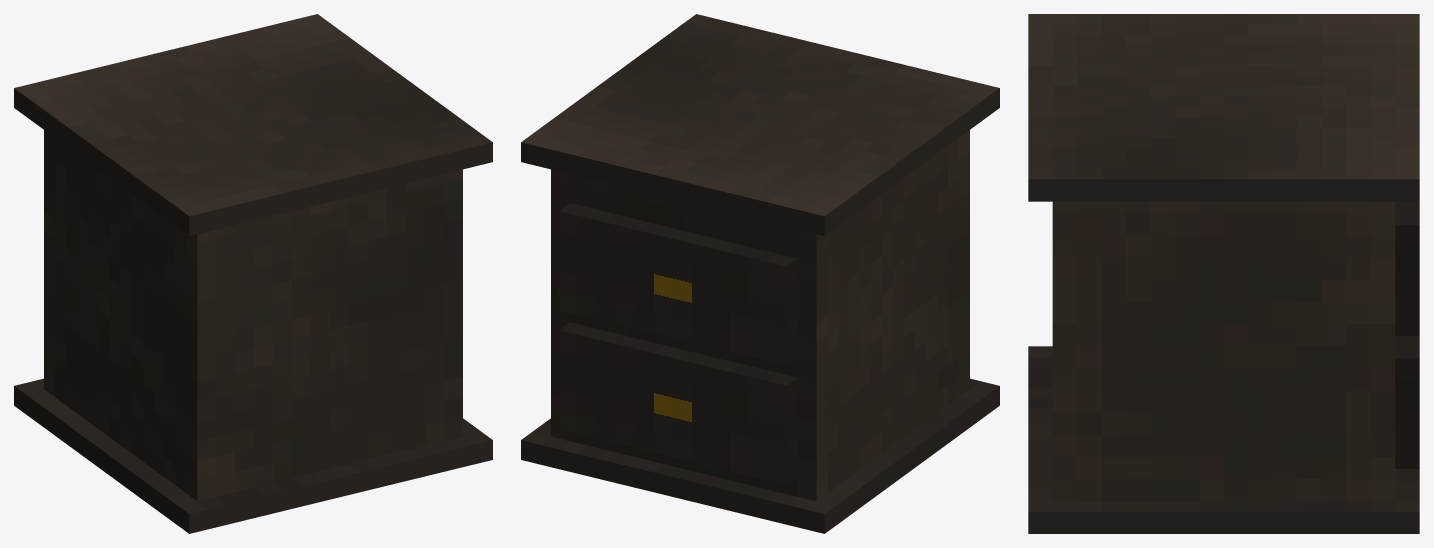
Rendered from bedside.obj.
The picture shows the model from 3 angles, left to right: view 1: azimuth 30°, elevation 25°; view 2: azimuth 150°, elevation 25°; view 3: azimuth 270°, elevation 25°; orthographic projection. The views are drawn at different scales.
Parts seen in each view (by area): view 1: cube; view 2: cube; view 3: cube.
Boxes of the visible parts, x1,y1,x2,y2 form: cube: [14, 14, 492, 533]; cube: [521, 14, 999, 533]; cube: [1028, 14, 1419, 533].
Bounding box in the file's own units: 1 × 1 × 1.
